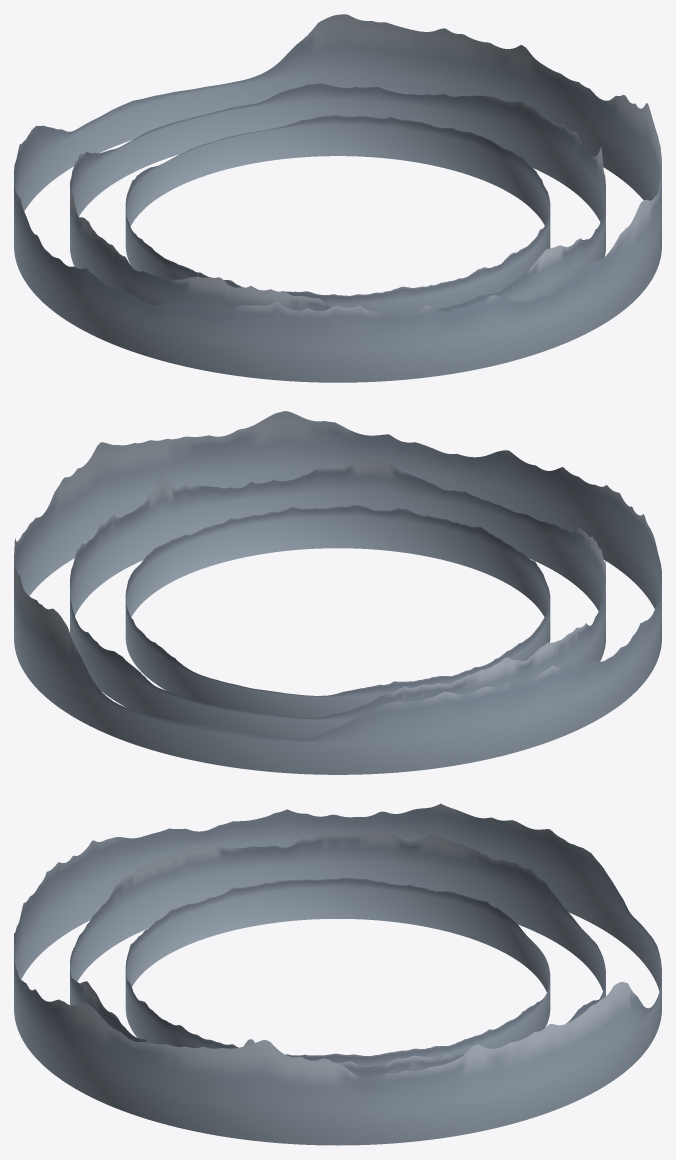
The picture shows the model from 3 angles, top to bottom: view 1: azimuth 30°, elevation 25°; view 2: azimuth 150°, elevation 25°; view 3: azimuth 270°, elevation 25°; orthographic projection.
Visible parts, largest first — view 1: Backdrop_L2_A; view 2: Backdrop_L2_A; view 3: Backdrop_L2_A.
Boxes of the visible parts, <box> form: Backdrop_L2_A: <box>14,14,661,382</box>; Backdrop_L2_A: <box>14,411,661,774</box>; Backdrop_L2_A: <box>14,803,661,1145</box>.
Bounding box in the file's own units: 2320 × 404 × 2320.
